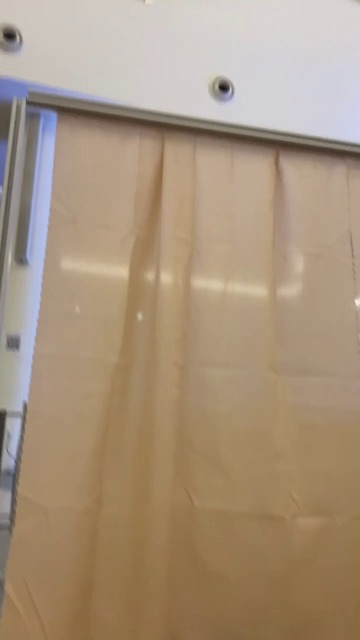curtain: (25, 102, 360, 640)
